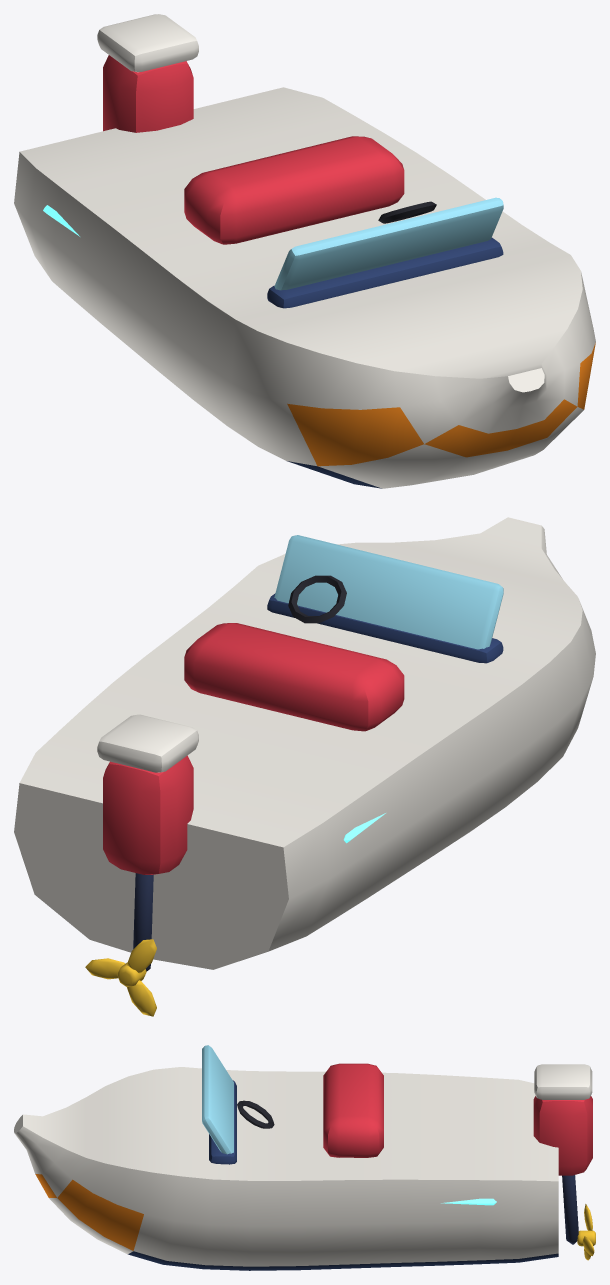
File: W1_Speedboat.fbx
3 renders of one model, top to bottom at view 1: azimuth 30°, elevation 25°; view 2: azimuth 150°, elevation 25°; view 3: azimuth 270°, elevation 25°, orthographic. The views are drawn at different scales.
Parts seen in each view (by area): view 1: Static; view 2: Static, Propeller; view 3: Static, Propeller.
Boxes of the visible parts, x1,y1,x2,y2 form: Static: (14, 14, 595, 488); Static: (14, 517, 595, 971); Propeller: (85, 939, 156, 1016); Static: (14, 1045, 592, 1270); Propeller: (577, 1204, 595, 1260).
Bounding box in the file's own units: 2.91 × 2.28 × 6.24.
